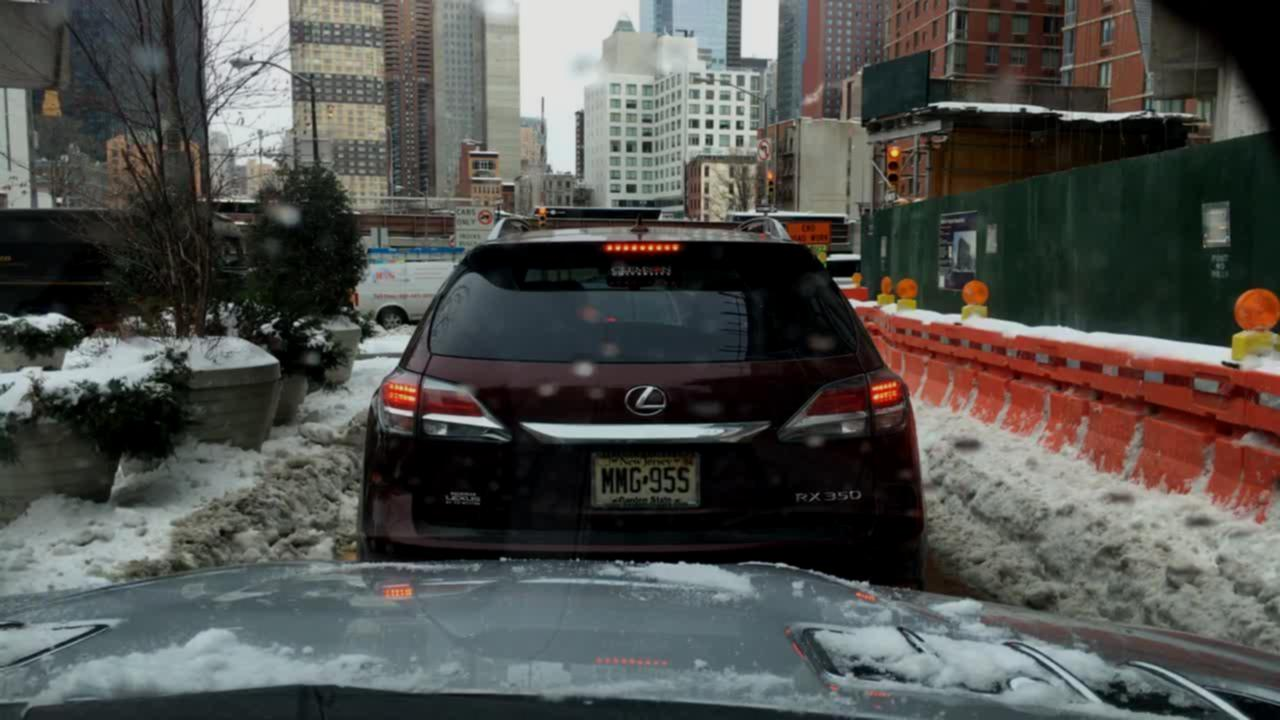lexus: (617, 366, 680, 433)
